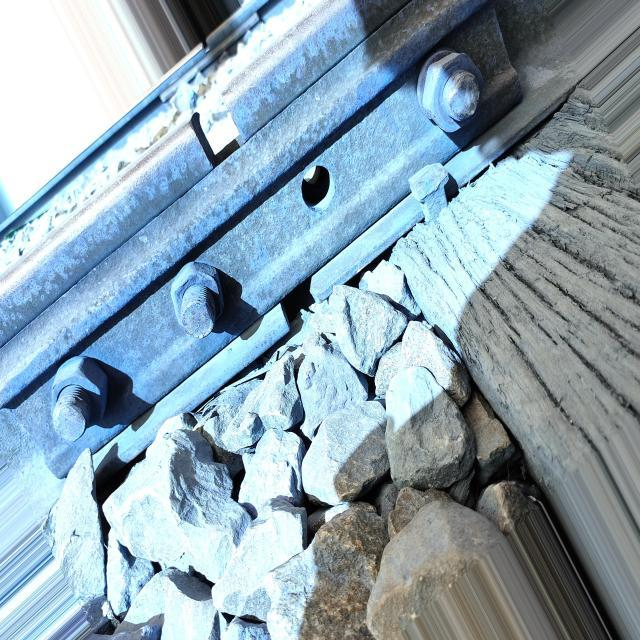Defective Joint: (0, 0, 525, 484)
